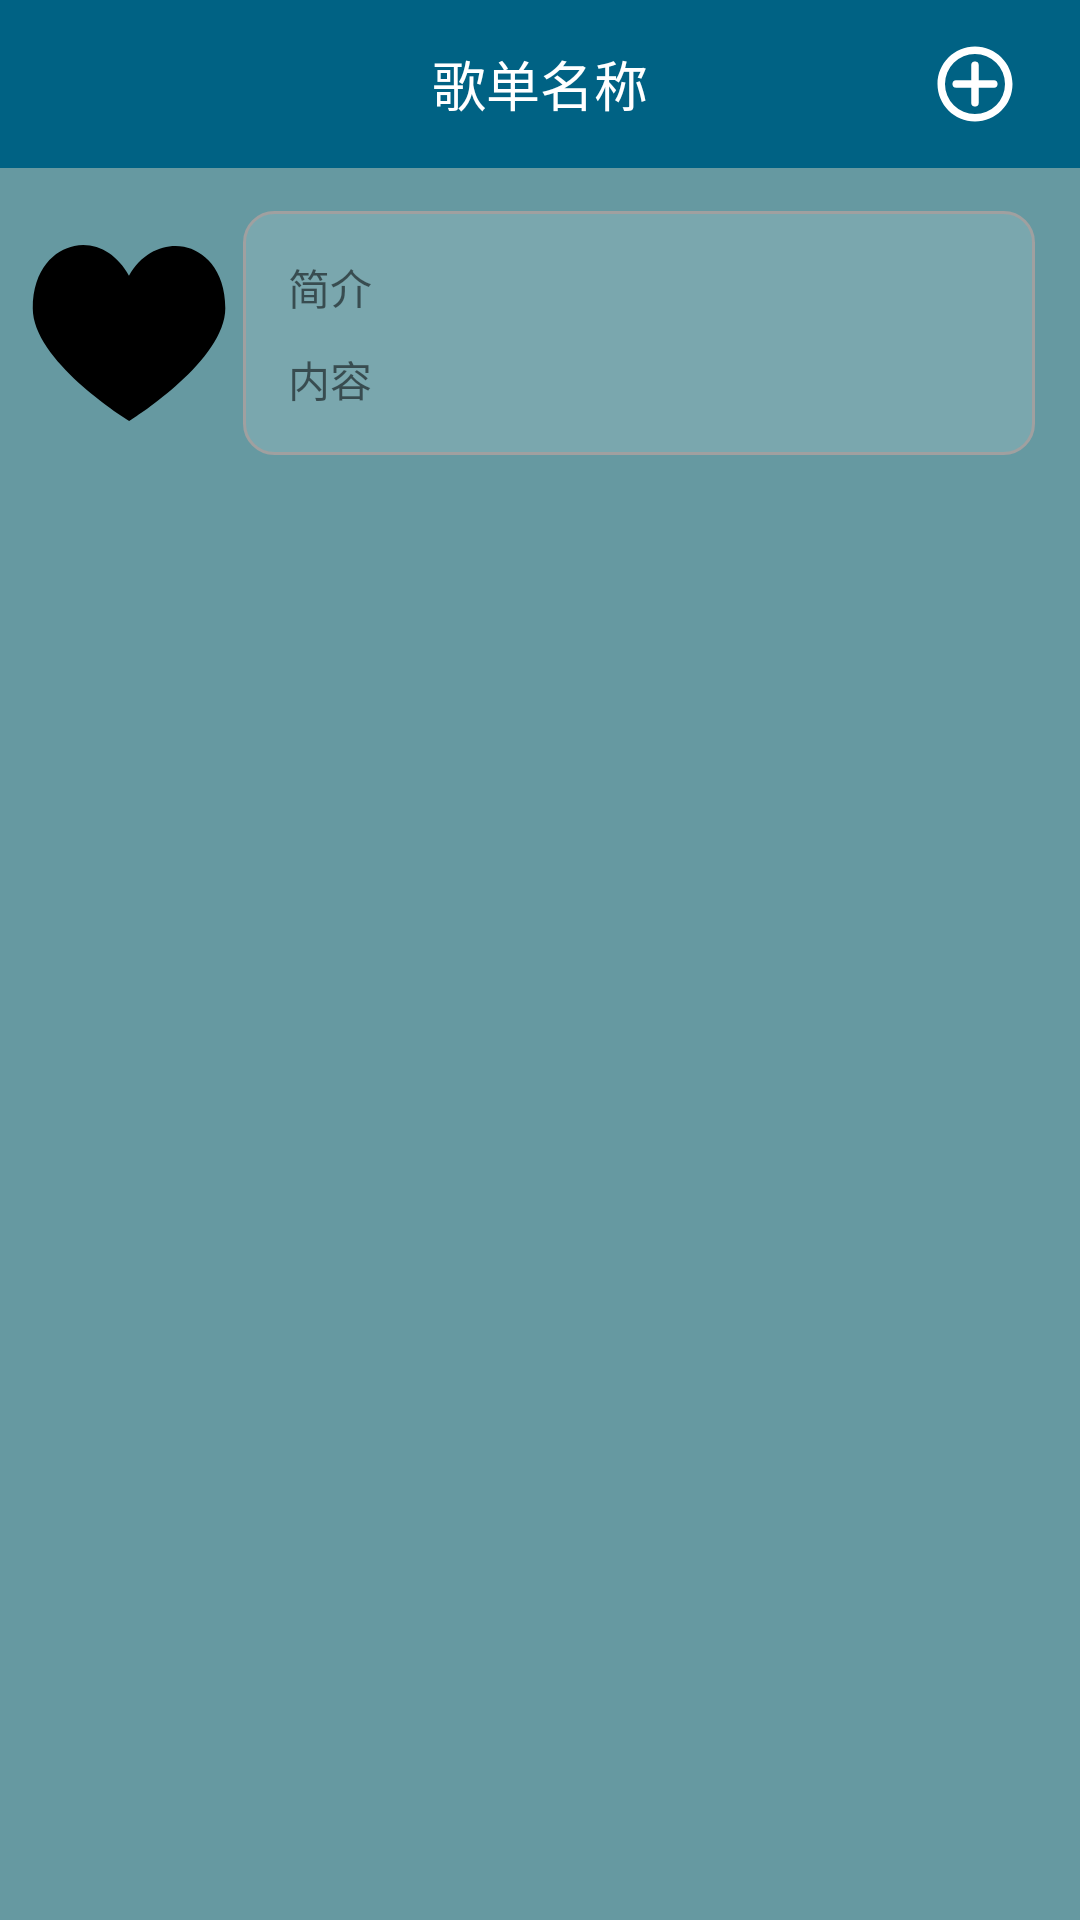

Icons on this 1080px×1920px Android screen, each with its box as (x1, y1, x2, y2):
addmusic: (937, 46, 1013, 122)
